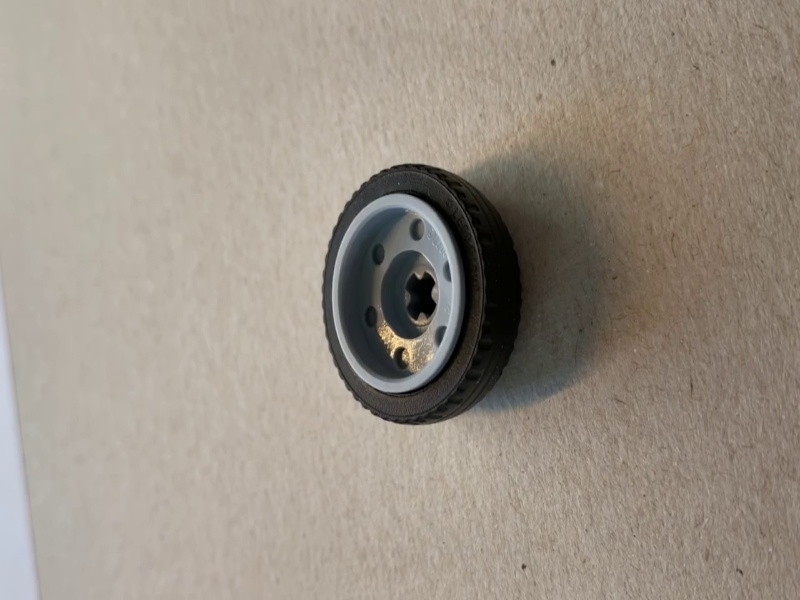tire: (321, 163, 526, 427)
